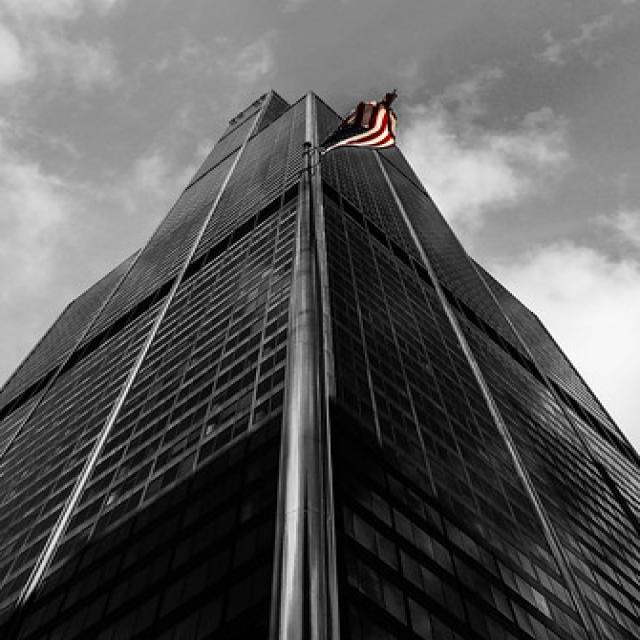building: (7, 86, 640, 639)
